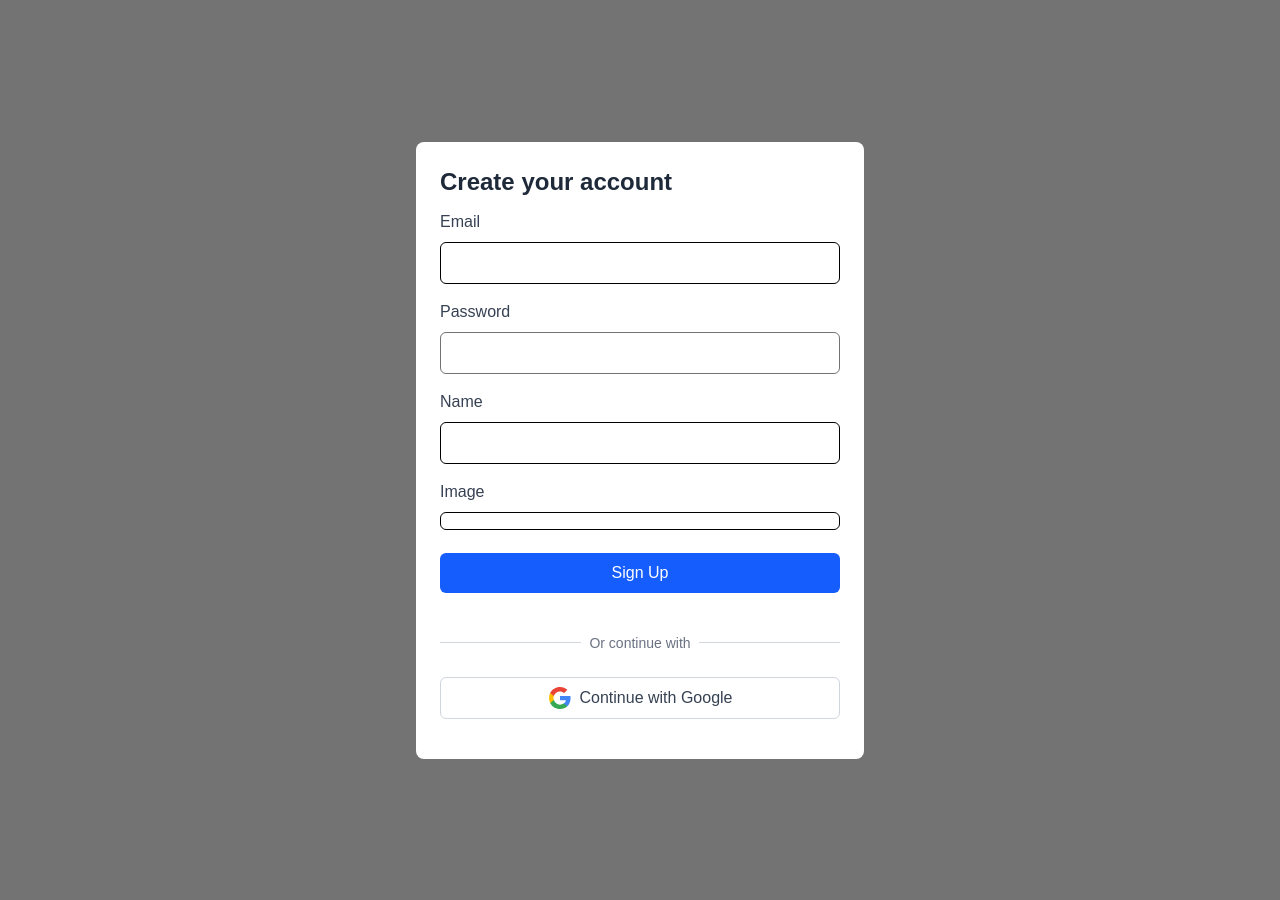
Test: SignUp Component › displays error message on failed submission
Click the button "Sign Up" at (640, 572), box x1=440 y1=552 x2=840 y2=592
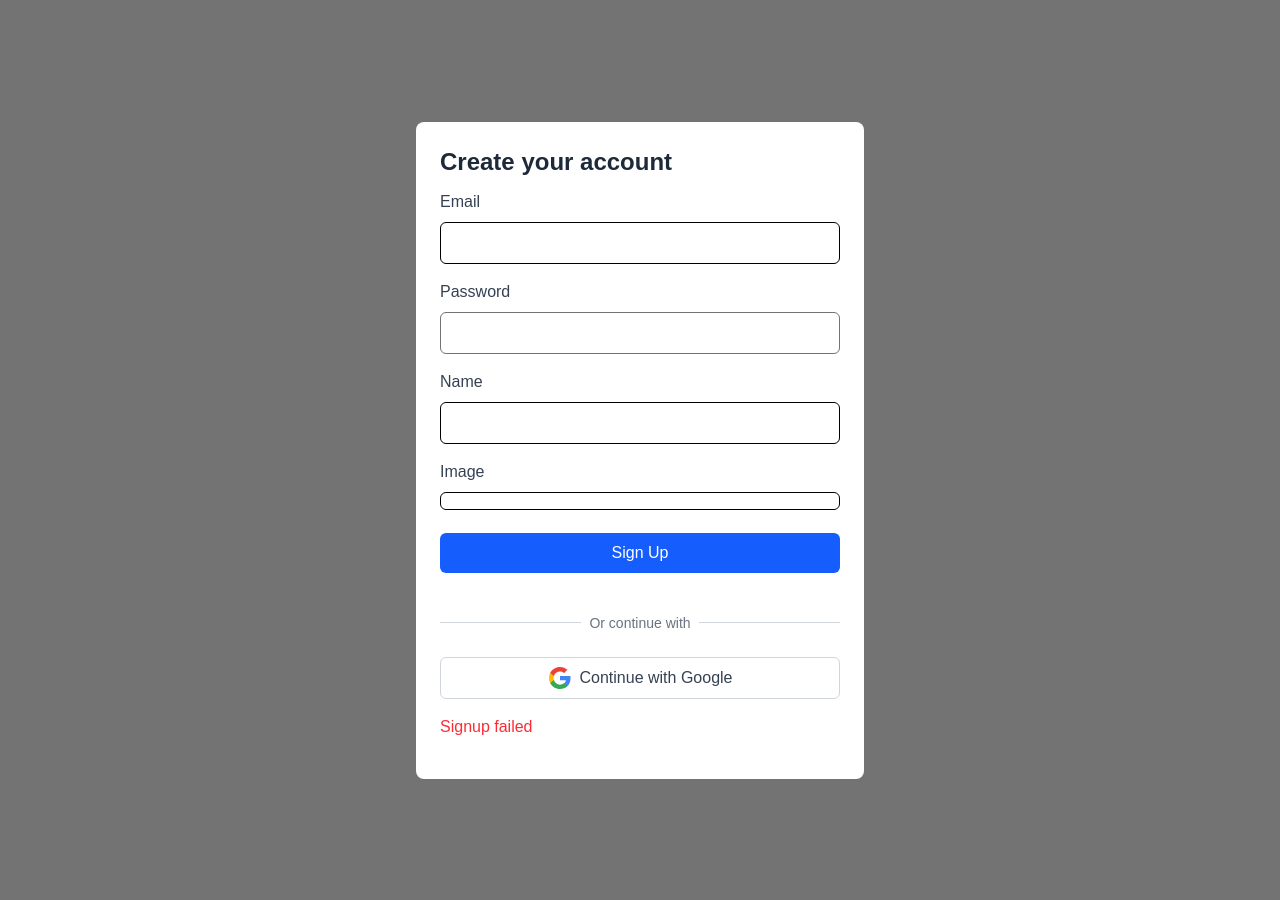
Expected: the text "Signup failed" is shown, x1=440 y1=718 x2=532 y2=734
